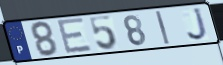5: (87, 14, 119, 52)
8: (30, 20, 60, 58), (123, 14, 148, 47)
E: (55, 17, 95, 56)
I: (154, 10, 172, 46)
J: (186, 6, 210, 42)
